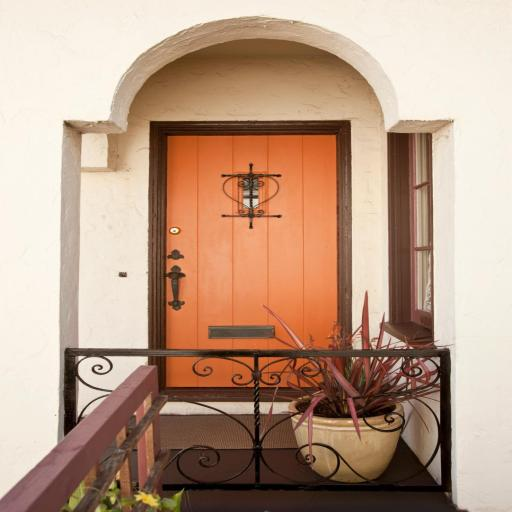Door: (147, 120, 352, 402)
Stairs: (0, 365, 467, 512)
